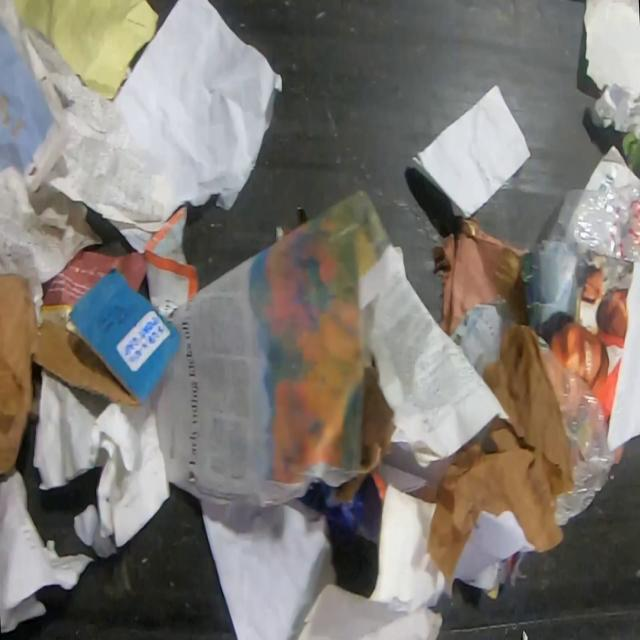cardboard: (0, 266, 182, 479)
soft_plastic: (538, 333, 614, 528), (546, 179, 640, 263)
